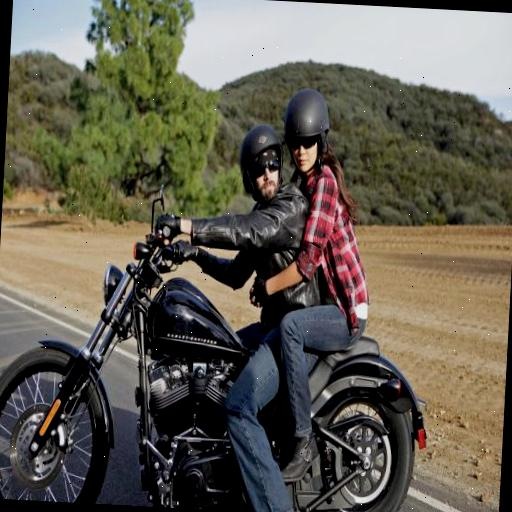helmet: (122, 118, 304, 504)
